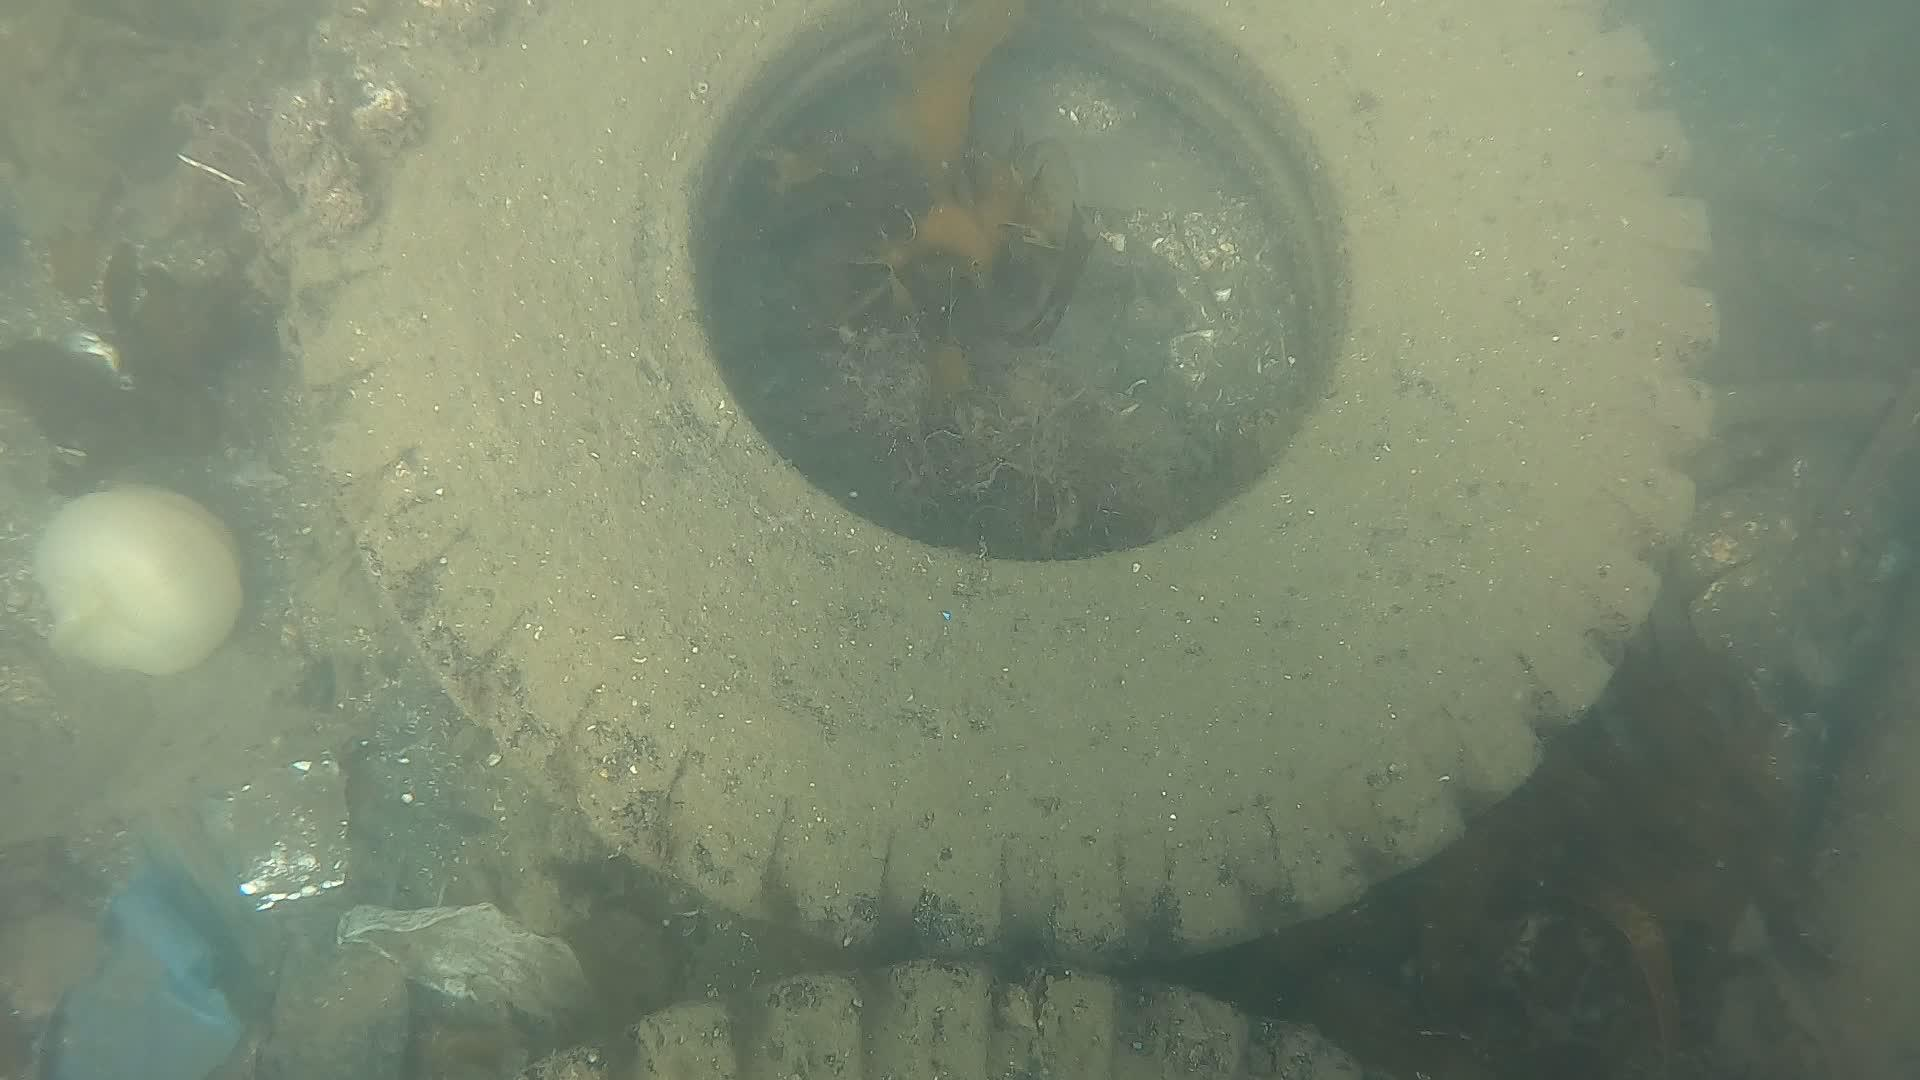tire: (274, 0, 1705, 960)
